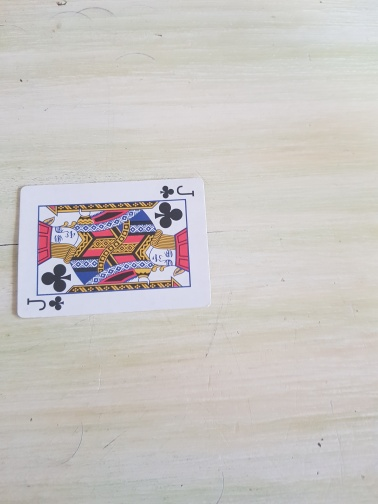jack: (15, 175, 212, 319)
